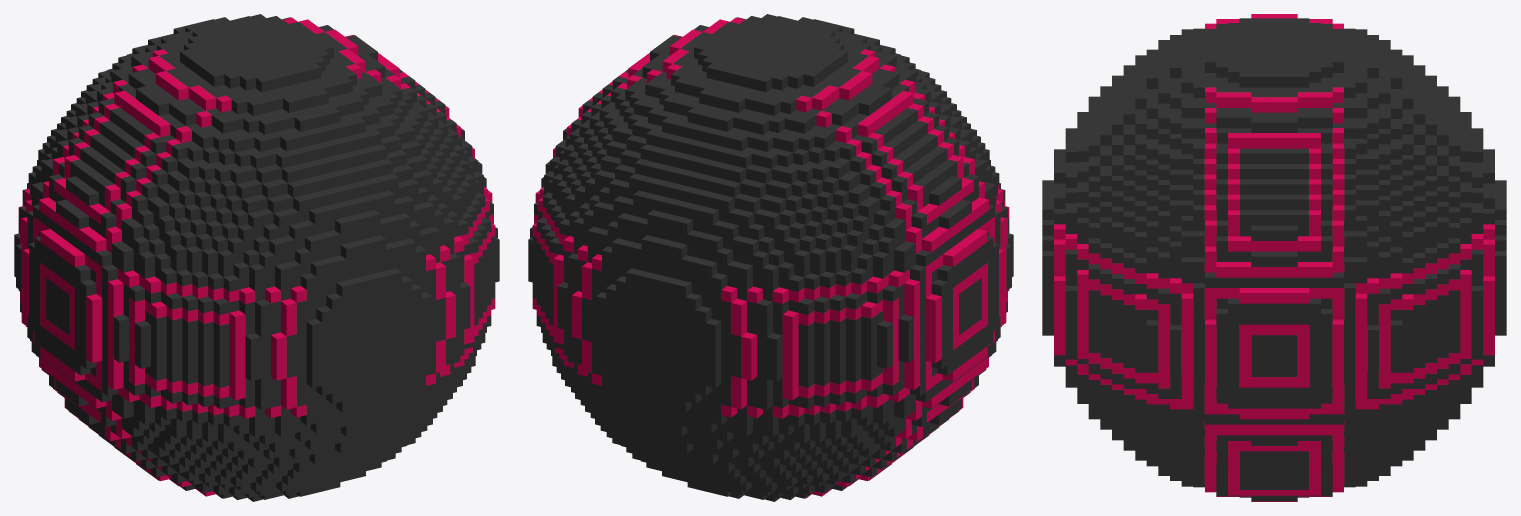
Rendered from Character_5.fbx.
3 views of the same model, side by side, from view 1: azimuth 30°, elevation 25°; view 2: azimuth 150°, elevation 25°; view 3: azimuth 270°, elevation 25° (orthographic).
Visible parts, largest first — view 1: Character_5; view 2: Character_5; view 3: Character_5.
Part boxes in pixels (<box>): Character_5: <box>14,14,499,501</box>; Character_5: <box>528,14,1013,501</box>; Character_5: <box>1042,14,1506,501</box>.
Size of the model in its own units: 40 by 40 by 40.
Materials: 1 (1 with a texture image).
